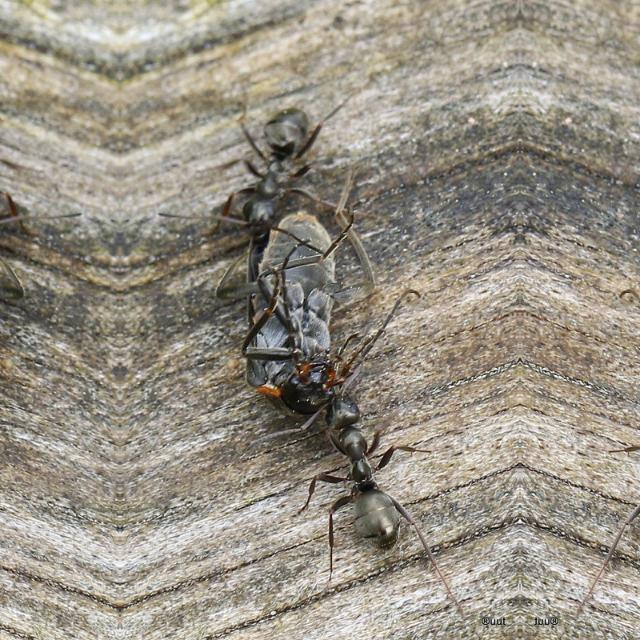Formica: (286, 336, 464, 604), (204, 90, 332, 254), (574, 336, 640, 604), (0, 89, 36, 254)
